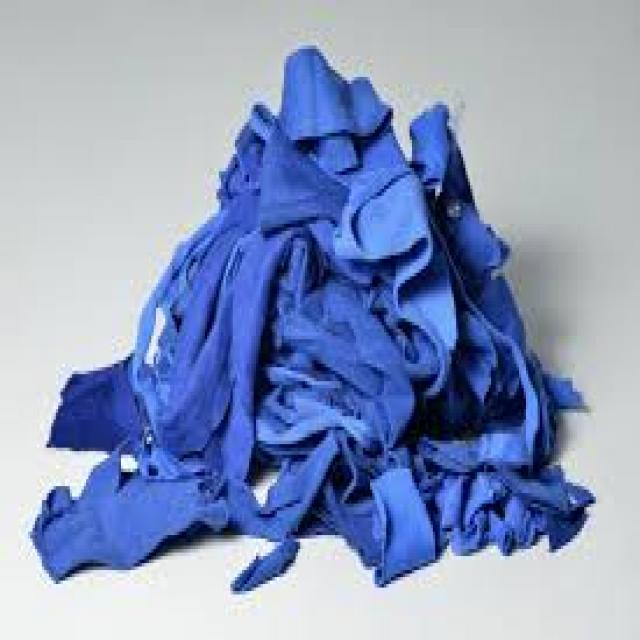Clothes -Biodegradable-: (28, 55, 596, 590)
